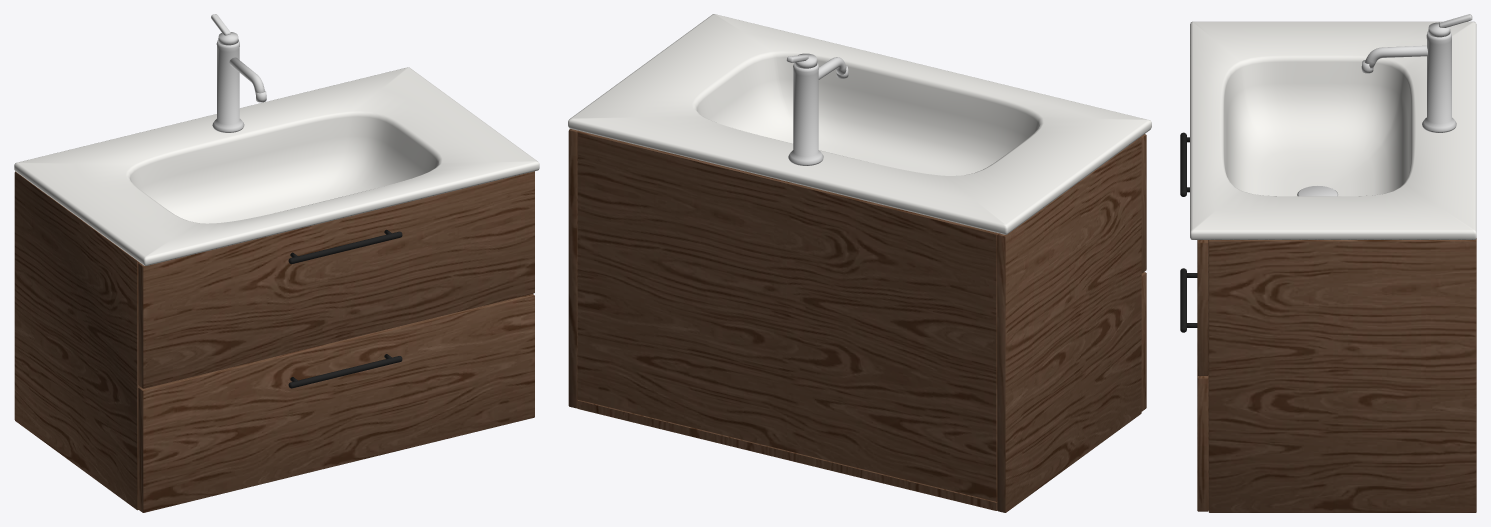
Rendered from mueble_lavabo_suspendido_80_nogal.glb.
3 renders of one model, left to right at view 1: azimuth 30°, elevation 25°; view 2: azimuth 150°, elevation 25°; view 3: azimuth 270°, elevation 25°, orthographic. The views are drawn at different scales.
Parts seen in each view (by area): view 1: mueble_lavabo_suspendido_80_nogal; view 2: mueble_lavabo_suspendido_80_nogal; view 3: mueble_lavabo_suspendido_80_nogal.
Part boxes in pixels (left/top/right/bottom): mueble_lavabo_suspendido_80_nogal: left=14, top=14, right=539, bottom=512; mueble_lavabo_suspendido_80_nogal: left=568, top=14, right=1151, bottom=512; mueble_lavabo_suspendido_80_nogal: left=1180, top=14, right=1476, bottom=512.
Size of the model in its own units: 0.8 by 0.6964 by 0.4756.
4 materials, 1 textured.
